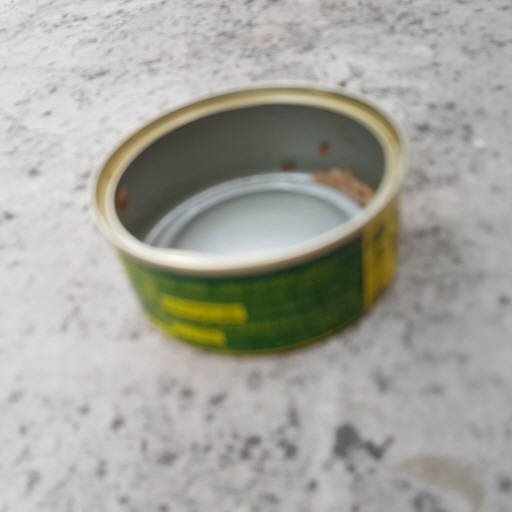Metal_1: (83, 82, 411, 356)
